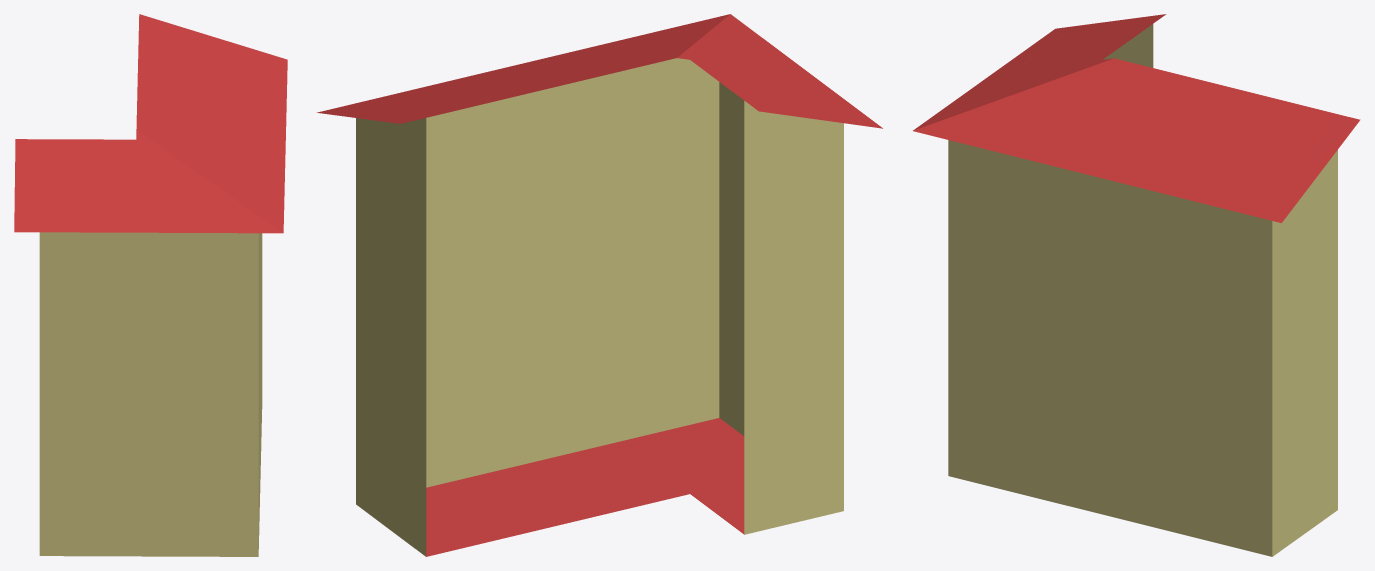
3 renders of one model, left to right at view 1: azimuth 30°, elevation 25°; view 2: azimuth 150°, elevation 25°; view 3: azimuth 270°, elevation 25°, orthographic. The views are drawn at different scales.
Bounding box in the file's own units: 8.73 × 8.5 × 8.29.
